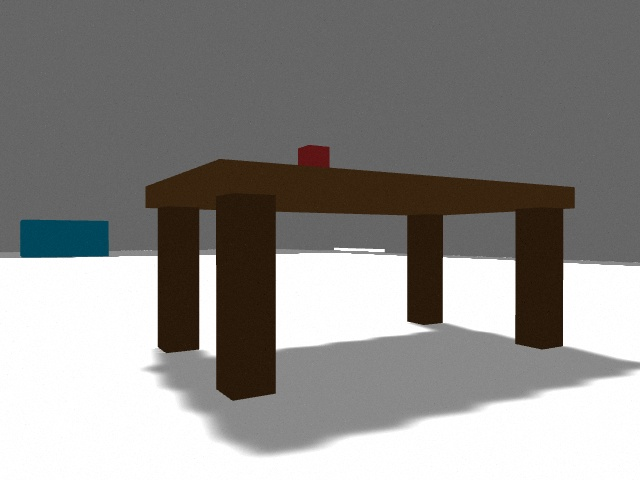blue_drop_zone: (20, 220, 109, 258)
